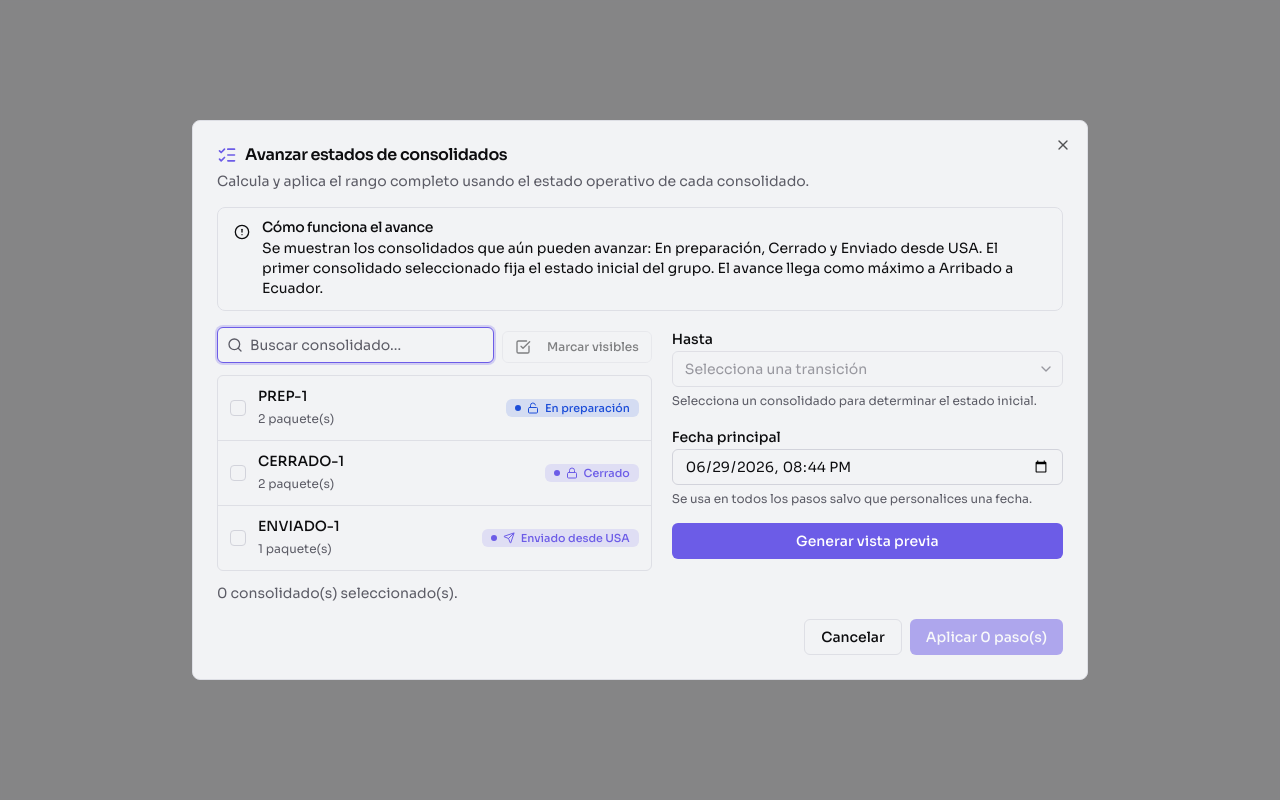
it: AvanceEstadosConsolidadosDialog › calcula Hasta desde el estado operativo del consolidado seleccionado
Step 1. Click the text "CERRADO-1" → x=301, y=461, box x1=258 y1=452 x2=344 y2=470
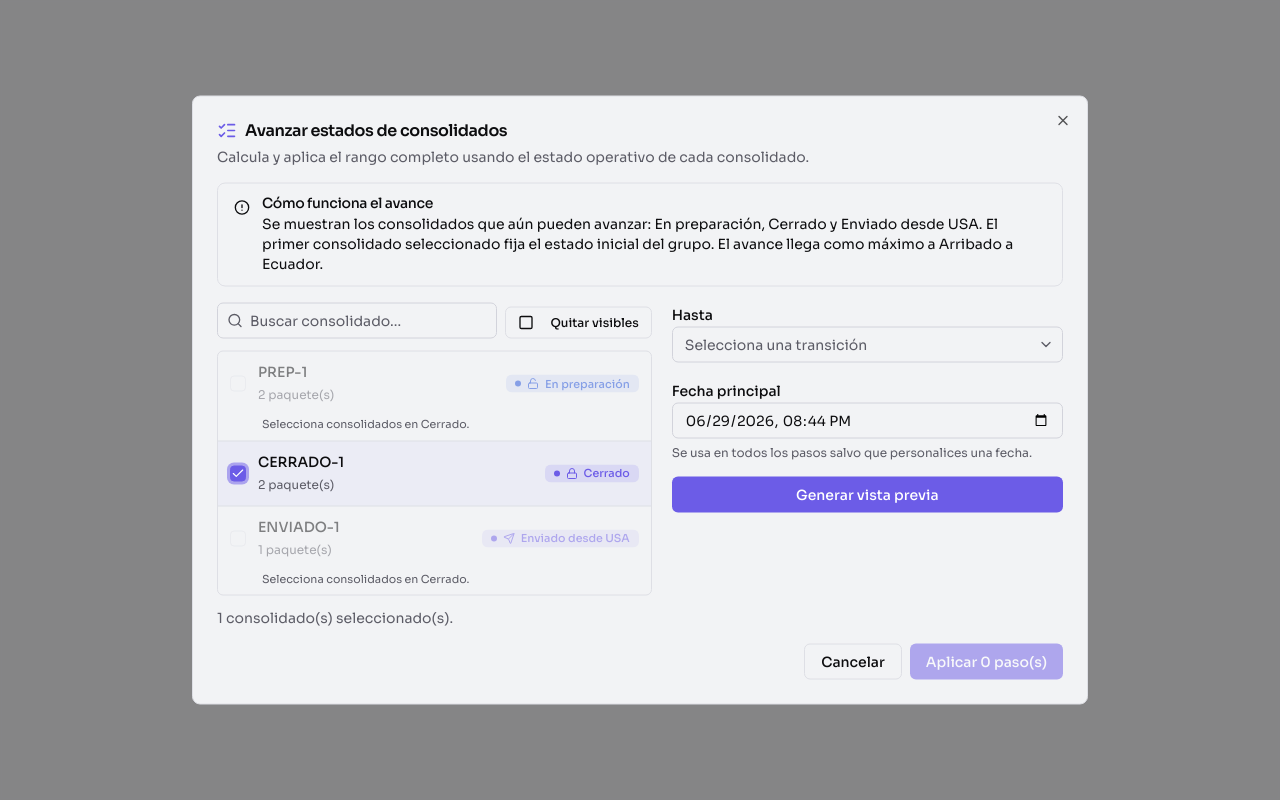
Step 2. Click the dropdown named "Hasta" → x=867, y=344, box x1=672 y1=326 x2=1063 y2=362
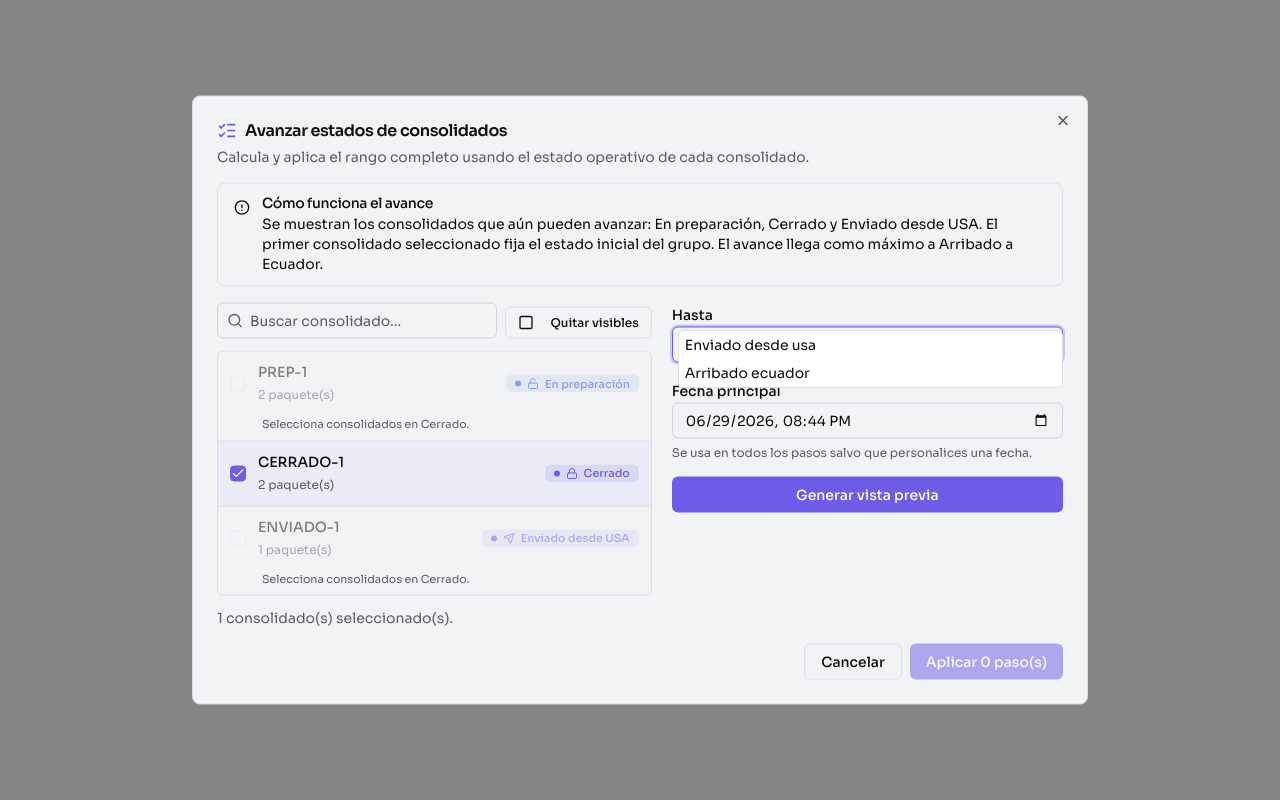
Expected: the option "Enviado desde usa" is shown, x1=685 y1=336 x2=816 y2=354
Expected: the option "Arribado ecuador" is shown, x1=685 y1=364 x2=810 y2=382
